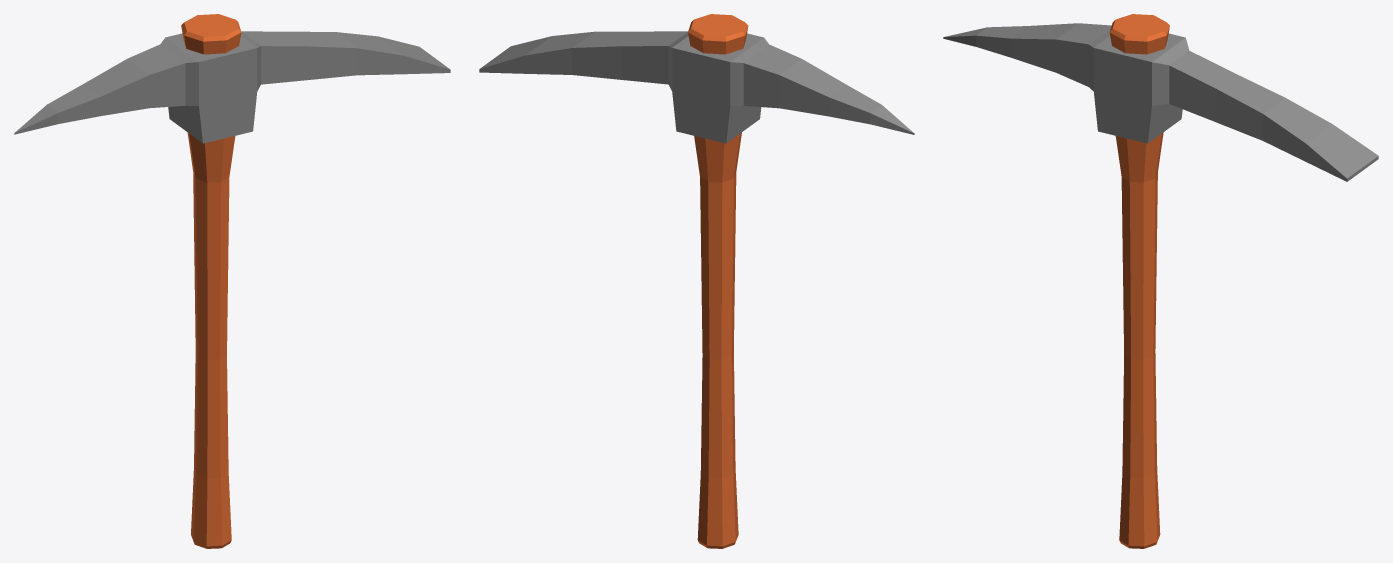
File: PickAxe0.fbx
3 views of the same model, side by side, from view 1: azimuth 30°, elevation 25°; view 2: azimuth 150°, elevation 25°; view 3: azimuth 330°, elevation 25° (orthographic).
Parts seen in each view (by area): view 1: PickAxe; view 2: PickAxe; view 3: PickAxe.
Boxes of the visible parts, x1=… form: PickAxe: x1=14, y1=14, x2=450, y2=548; PickAxe: x1=479, y1=14, x2=914, y2=548; PickAxe: x1=943, y1=14, x2=1378, y2=548.
Bounding box in the file's own units: 2.94 × 3.44 × 0.4082.
